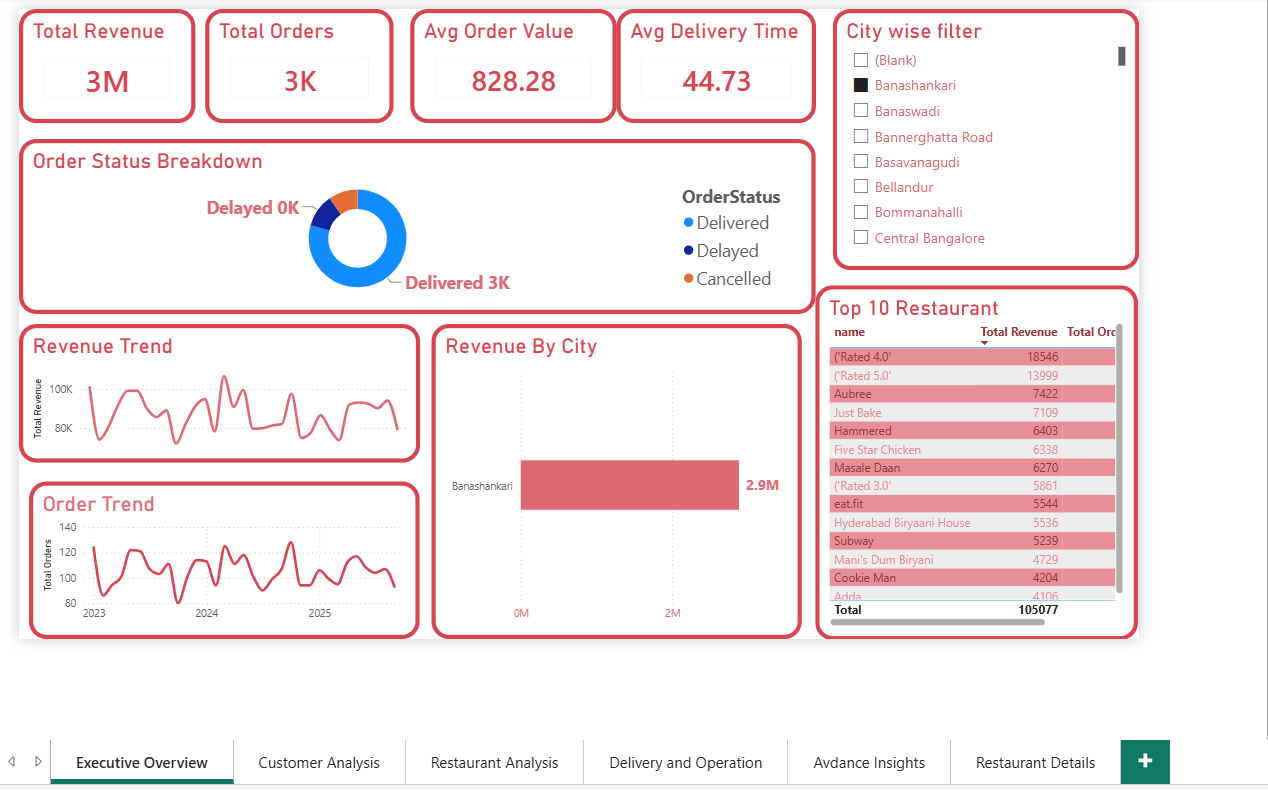

What the dashboard file says about the page in this screenshot:
{"tool":"powerbi","page":{"name":"Executive Overview","canvas":[1280,720],"ordinal":0},"visuals":[{"type":"cardVisual","title":"Total Revenue","fields":{"Data":["Orders.Total Revenue"]},"box":[0,0,201.7,130],"z":0},{"type":"cardVisual","title":"Avg Order Value ","fields":{"Data":["Orders.Avg Order Value"]},"box":[447.1,0,235.7,130],"z":1000},{"type":"cardVisual","title":"Total Orders","fields":{"Data":["Orders.Total Orders"]},"box":[213.3,0,215,130],"z":2000},{"type":"cardVisual","title":"Avg Delivery Time","fields":{"Data":["Orders.Avg Delivery Time"]},"box":[682.9,0,228.3,130],"z":3000},{"type":"lineChart","title":"Revenue Trend","fields":{"Y":["Orders.Total Revenue"],"Category":["DateTable.Date.Variation.Date Hierarchy.Year","DateTable.Date.Variation.Date Hierarchy.Month"]},"box":[0,360,458.3,158.3],"z":4000},{"type":"lineChart","title":"Order Trend","fields":{"Category":["DateTable.Date.Variation.Date Hierarchy.Year","DateTable.Date.Variation.Date Hierarchy.Month"],"Y":["Orders.Total Orders"]},"box":[11.7,540,446.7,180],"z":5000},{"type":"barChart","title":"Revenue By City","fields":{"Category":["Customers.FilterCity"],"Y":["Orders.Total Revenue"]},"box":[471.7,360,423.3,360],"z":6000},{"type":"slicer","title":"City wise filter","fields":{"Values":["Customers.FilterCity"]},"box":[930,0,350,298.6],"z":7000},{"type":"tableEx","title":"Top 10 Restaurant","fields":{"Values":["Restaurant.name","Orders.Total Revenue","Orders.Total Orders","Orders.Avg Rating"]},"box":[910,315,368.6,405.7],"z":8000},{"type":"actionButton","box":[0,0,100,40],"z":9000},{"type":"donutChart","title":"Order Status Breakdown","fields":{"Y":["Orders.Total Orders"],"Category":["Orders.OrderStatus"]},"box":[0,148.8,910,200],"z":10001}]}

Visuals, with their boxes on the page's 1280x720 design canvas (x1, y1, x2, y2). These are canvas units, not pixel positions in the 1268x790 screenshot, which may show the page scaled, cropped or inside an application window:
"Total Revenue" cardVisual: box=[0, 0, 202, 130]
"Avg Order Value " cardVisual: box=[447, 0, 683, 130]
"Total Orders" cardVisual: box=[213, 0, 428, 130]
"Avg Delivery Time" cardVisual: box=[683, 0, 911, 130]
"Revenue Trend" lineChart: box=[0, 360, 458, 518]
"Order Trend" lineChart: box=[12, 540, 458, 720]
"Revenue By City" barChart: box=[472, 360, 895, 720]
"City wise filter" slicer: box=[930, 0, 1280, 299]
"Top 10 Restaurant" tableEx: box=[910, 315, 1279, 721]
actionButton: box=[0, 0, 100, 40]
"Order Status Breakdown" donutChart: box=[0, 149, 910, 349]
